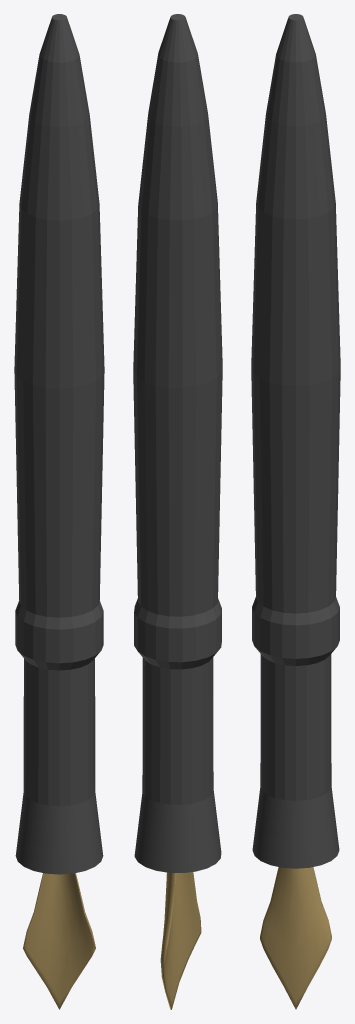
File: pen2.fbx
3 renders of one model, left to right at view 1: azimuth 90°, elevation 25°; view 2: azimuth 150°, elevation 25°; view 3: azimuth 270°, elevation 25°, orthographic.
Visible parts, largest first — view 1: polySurface18; view 2: polySurface18; view 3: polySurface18.
Part boxes in pixels (box(x1,y1,x2,y2)): polySurface18: box(14, 14, 104, 1009); polySurface18: box(133, 14, 222, 1009); polySurface18: box(251, 14, 340, 1009).
Size of the model in its own units: 1.3 by 15.84 by 1.3.
